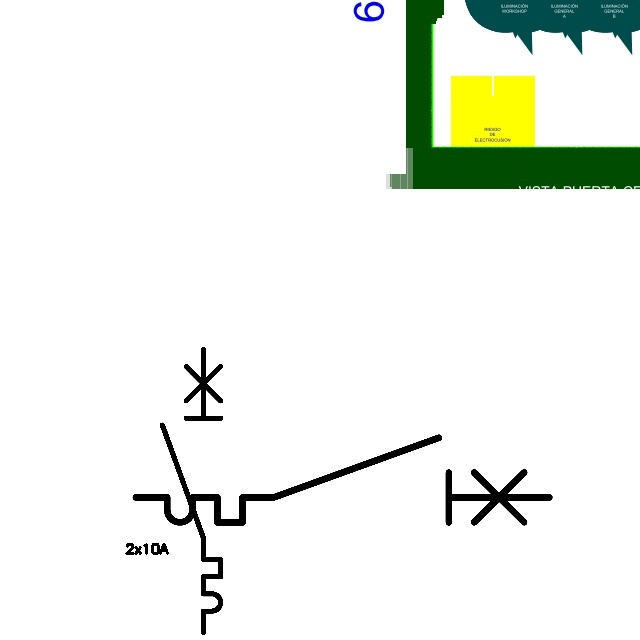interruptor_termomagnetico: (125, 427, 559, 533), (155, 342, 228, 640)
